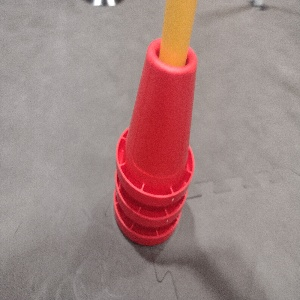Red_3: (113, 34, 197, 243)
